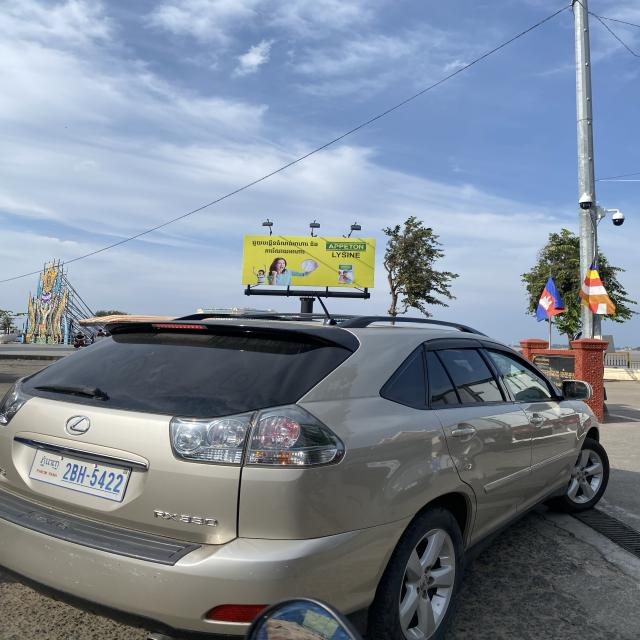1: (250, 238, 319, 249)
631: (59, 462, 76, 481)
786: (87, 467, 126, 494)
Yolov11_80vkh: (37, 454, 65, 471), (262, 247, 308, 255)
